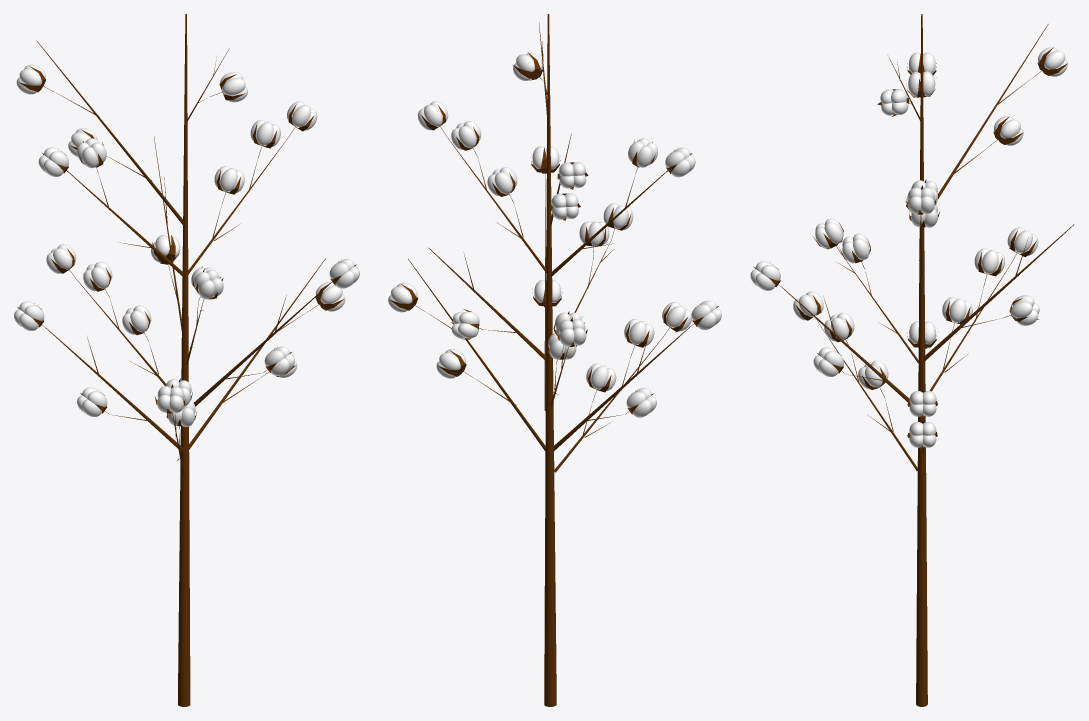
Rendered from cotton.dae.
3 views of the same model, side by side, from view 1: azimuth 30°, elevation 25°; view 2: azimuth 150°, elevation 25°; view 3: azimuth 270°, elevation 25° (orthographic).
Visible parts, largest first — view 1: SketchUp (×3); view 2: SketchUp (×3); view 3: SketchUp (×2).
Part boxes in pixels (box(x1,y1,x2,y2)): SketchUp (×3): box(36, 14, 325, 706); SketchUp (×3): box(408, 14, 690, 706); SketchUp (×2): box(916, 14, 1074, 706).
Bounding box in the file's own units: 46.98 × 40.26 × 94.74.
